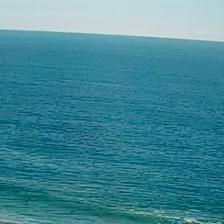surfer: (70, 211, 73, 214)
